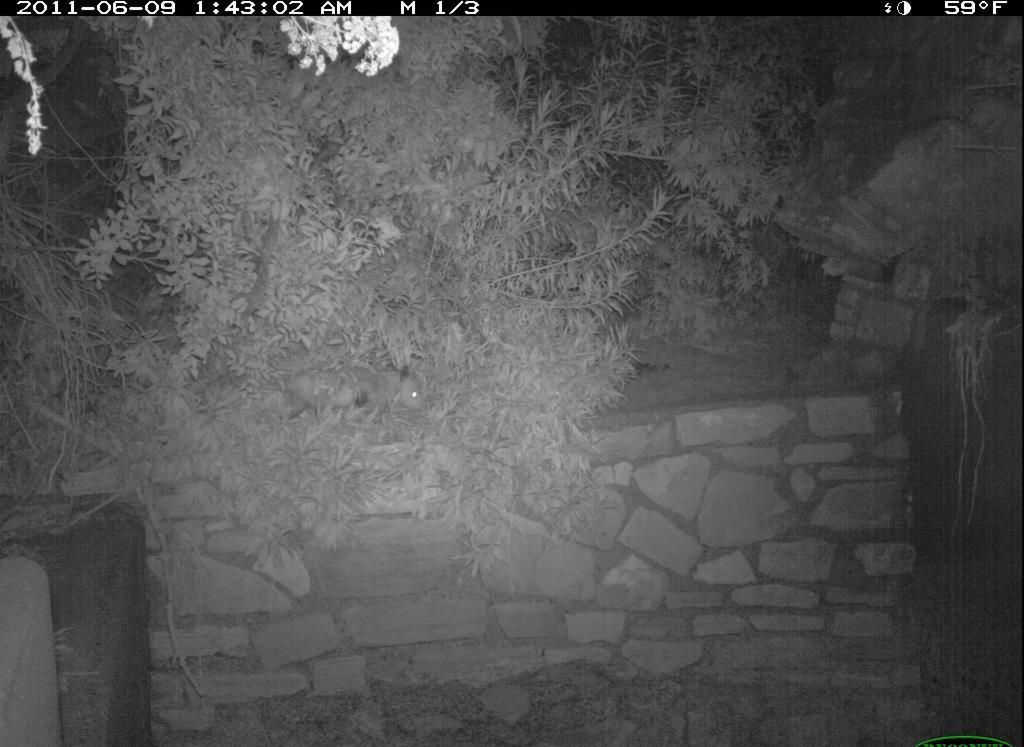opossum: (268, 353, 434, 437)
